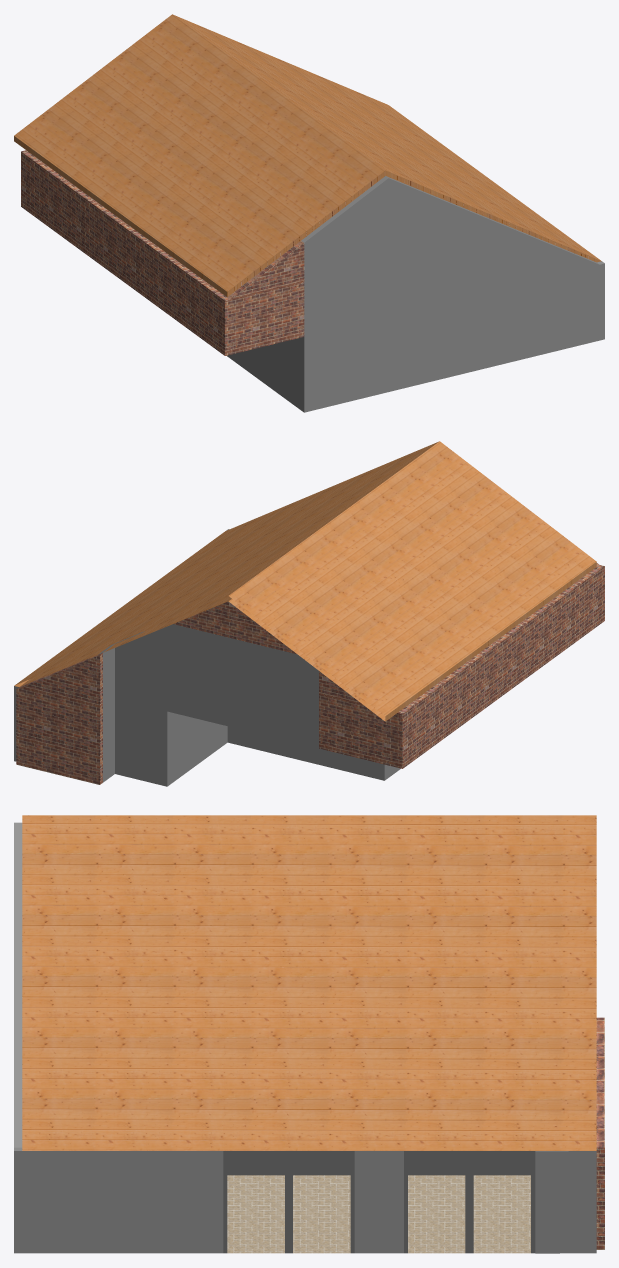
File: room.fbx
3 renders of one model, top to bottom at view 1: azimuth 30°, elevation 25°; view 2: azimuth 150°, elevation 25°; view 3: azimuth 270°, elevation 25°, orthographic. The views are drawn at different scales.
Visible parts, largest first — view 1: tetto, muro0, muro4, mattoni1, mattoni3; view 2: tetto, mattoni1, muro2, muro0, mattoni0, muro5, mattoni2; view 3: tetto, muro0, pavimento0, muro3, muro1, Box029, Box028, muro4, mattoni0.
Part boxes in pixels (x1,y1,x2,y2): tetto: [14, 14, 601, 297]; muro0: [226, 261, 604, 412]; muro4: [301, 176, 598, 336]; mattoni1: [21, 150, 304, 355]; mattoni3: [227, 241, 304, 299]; tetto: [14, 441, 596, 721]; mattoni1: [319, 565, 604, 768]; muro2: [167, 624, 318, 748]; muro0: [103, 529, 400, 786]; mattoni0: [16, 653, 102, 784]; muro5: [98, 626, 167, 711]; mattoni2: [173, 601, 361, 704]; tetto: [22, 815, 596, 1150]; muro0: [14, 1147, 223, 1253]; pavimento0: [227, 1175, 530, 1253]; muro3: [535, 1151, 596, 1253]; muro1: [354, 1151, 403, 1253]; Box029: [404, 1151, 535, 1253]; Box028: [223, 1151, 354, 1253]; muro4: [14, 822, 22, 1147]; mattoni0: [596, 1017, 604, 1249].
Bounding box in the file's own units: 1440 × 813 × 1440.
9 materials, 4 textured.
